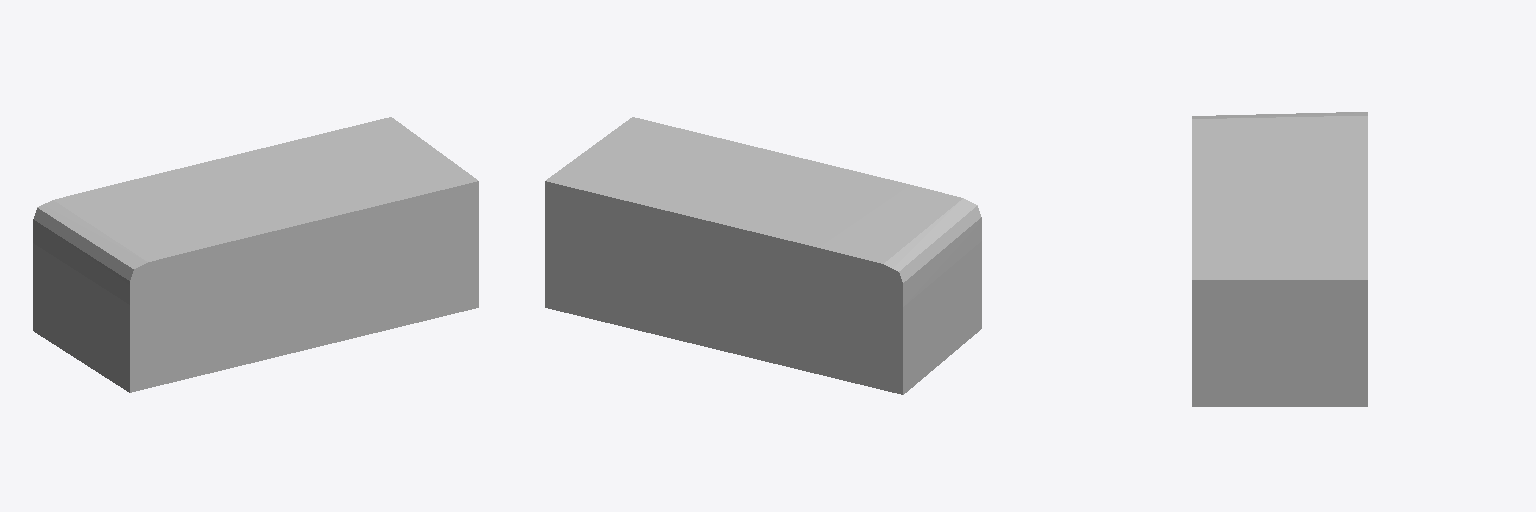
File: pentagon_collision_19.obj
3 views of the same model, side by side, from view 1: azimuth 30°, elevation 25°; view 2: azimuth 150°, elevation 25°; view 3: azimuth 270°, elevation 25° (orthographic).
Bounding box in the file's own units: 0.0098 × 0.0033 × 0.0041.